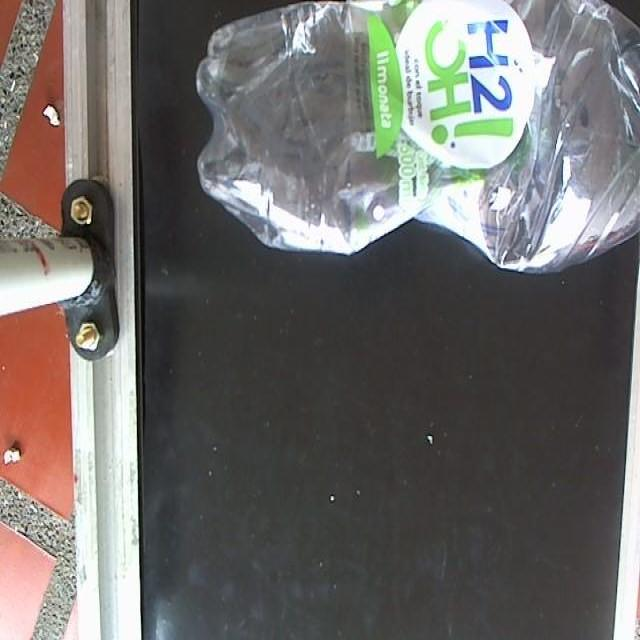defect: (191, 0, 640, 279)
